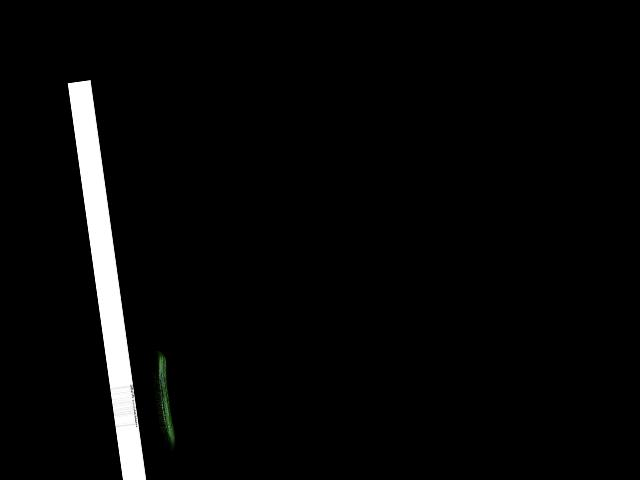cucumber: (148, 349, 177, 453)
